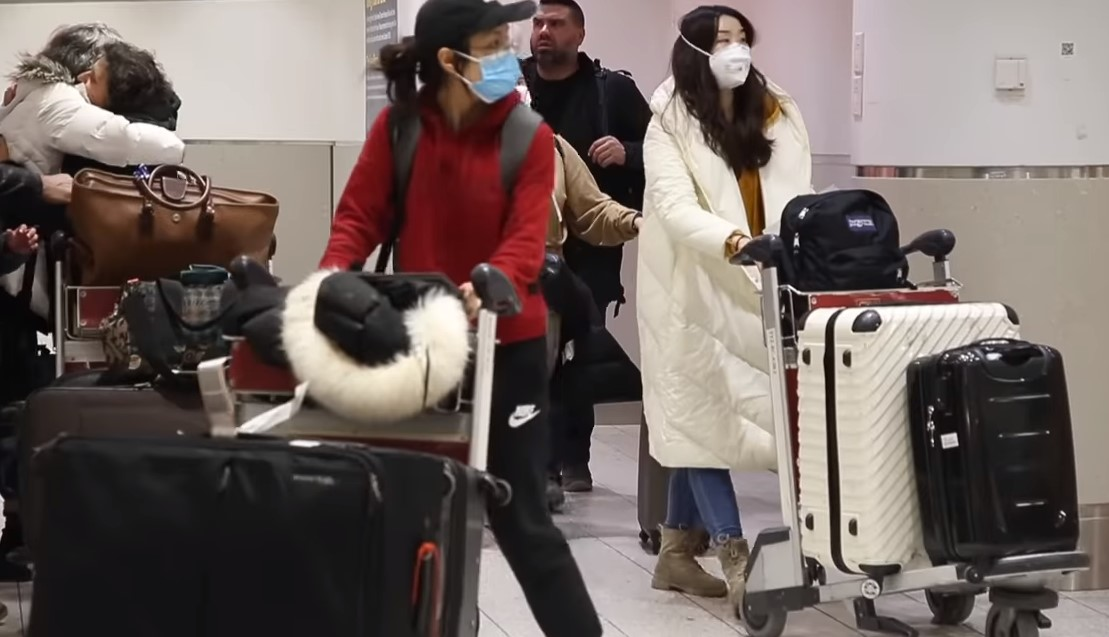face_no_mask: (74, 42, 166, 118), (531, 2, 582, 64)
face_with_mask: (415, 5, 519, 105), (679, 11, 753, 91)
